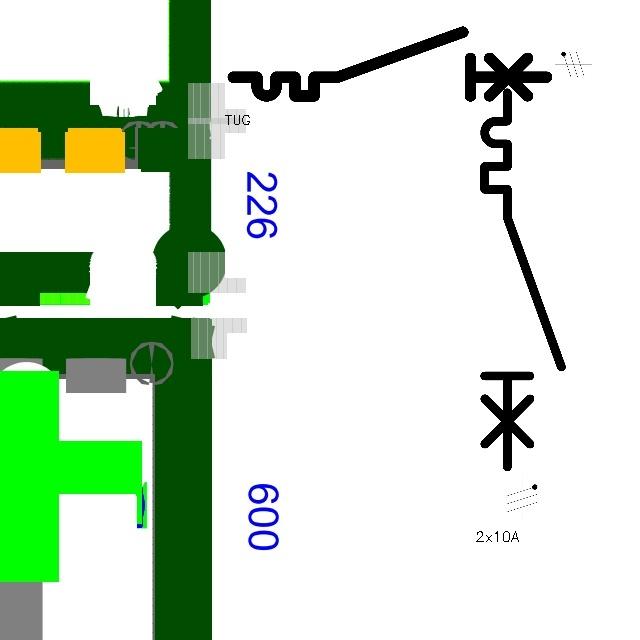interruptor_termomagnetico: (475, 83, 571, 477), (225, 24, 554, 104)
